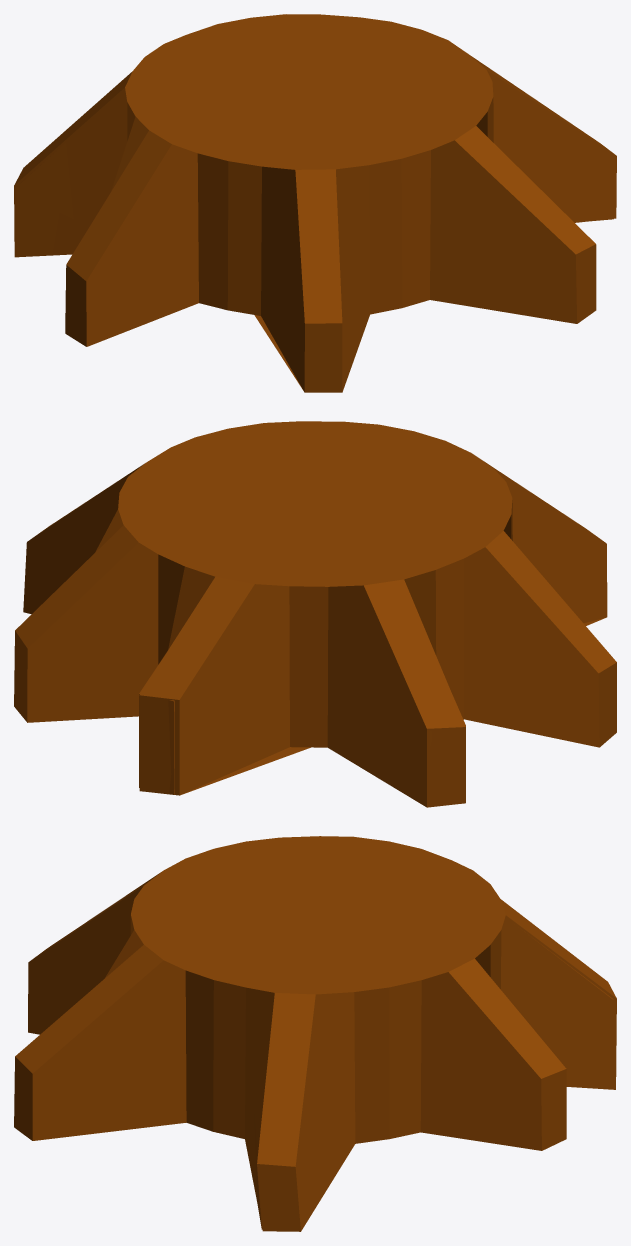
The model's file is TReeStump.fbx.
3 views of the same model, one above another, from view 1: azimuth 30°, elevation 25°; view 2: azimuth 150°, elevation 25°; view 3: azimuth 270°, elevation 25° (orthographic). The views are drawn at different scales.
Parts seen in each view (by area): view 1: Cylinder; view 2: Cylinder; view 3: Cylinder.
Part boxes in pixels (box(x1,y1,x2,y2)): Cylinder: box(14, 14, 616, 392); Cylinder: box(14, 421, 616, 807); Cylinder: box(14, 836, 616, 1231).
Size of the model in its own units: 3991 by 1253 by 3835.
